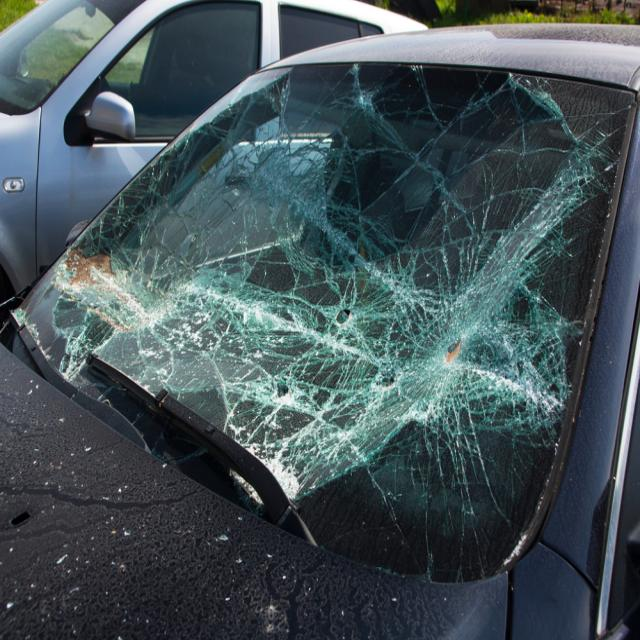Windshield: (48, 160, 608, 456)
